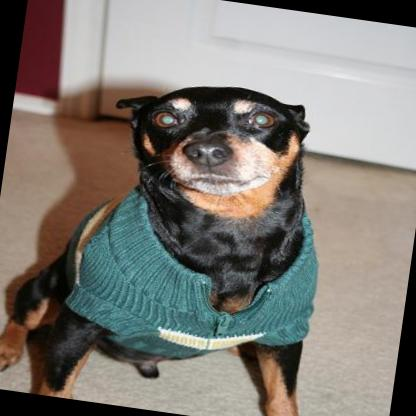miniature_pinscher: (0, 54, 348, 416)
